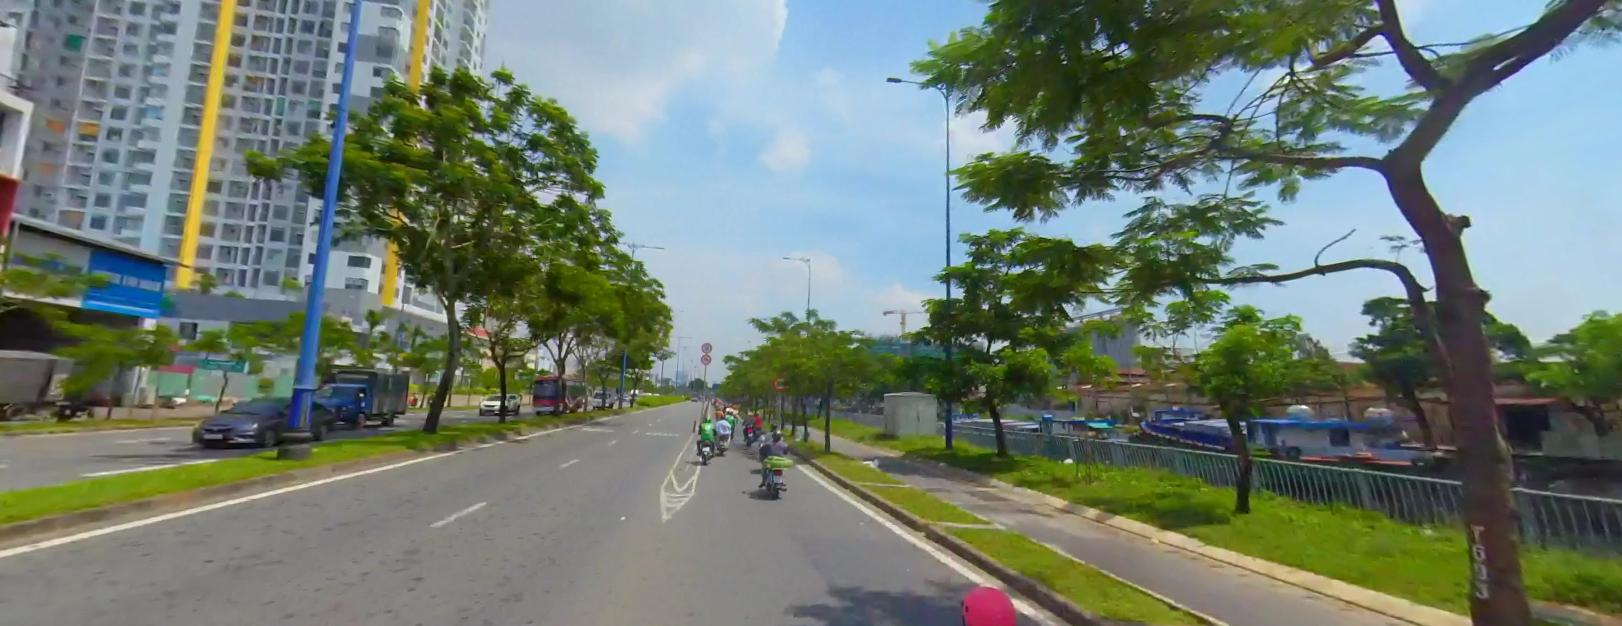Cam con lai: (772, 372, 788, 388), (700, 340, 712, 351), (700, 352, 710, 362)
